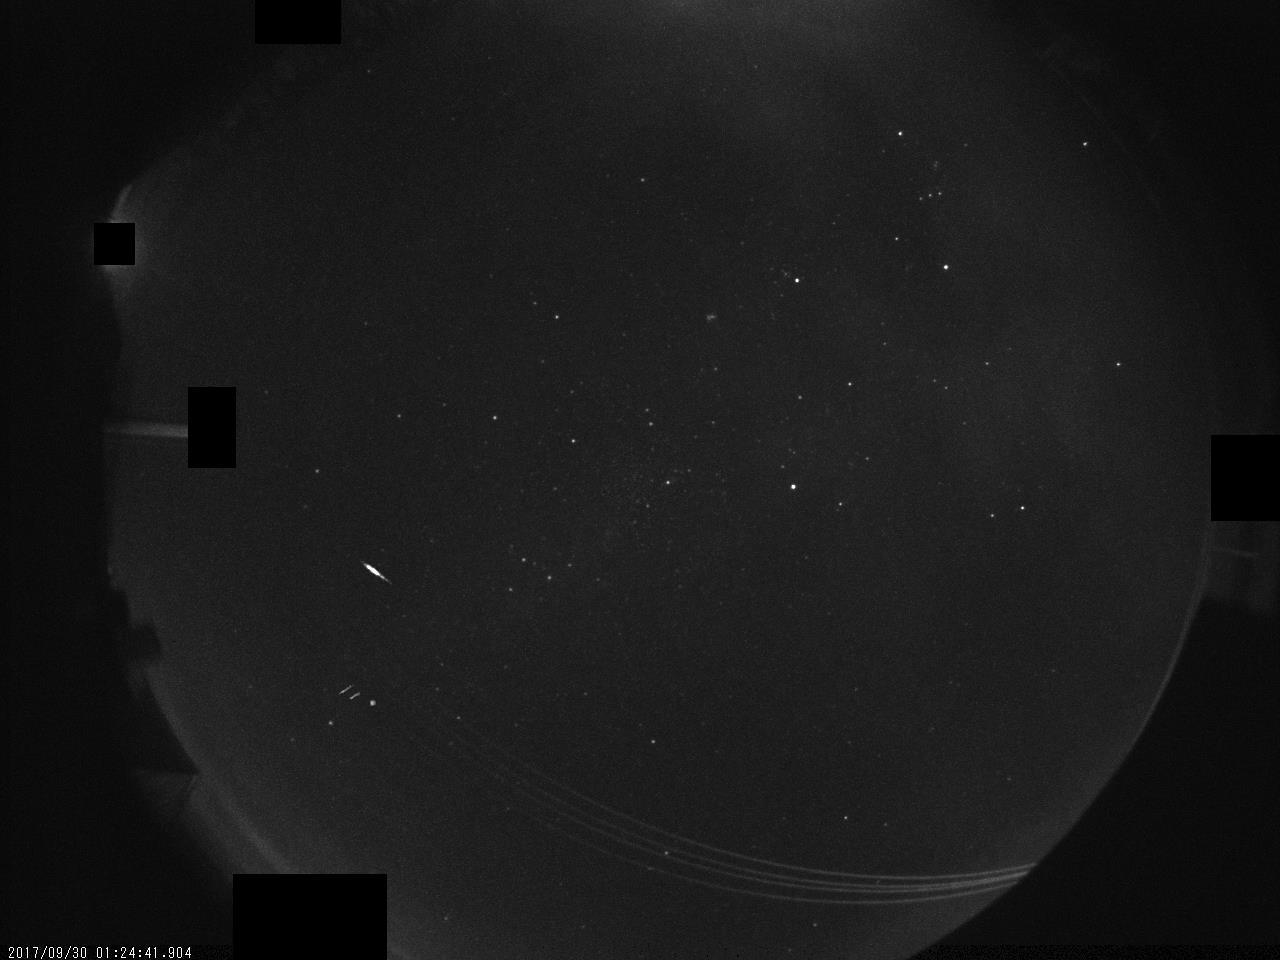TLE: (331, 677, 383, 706)
